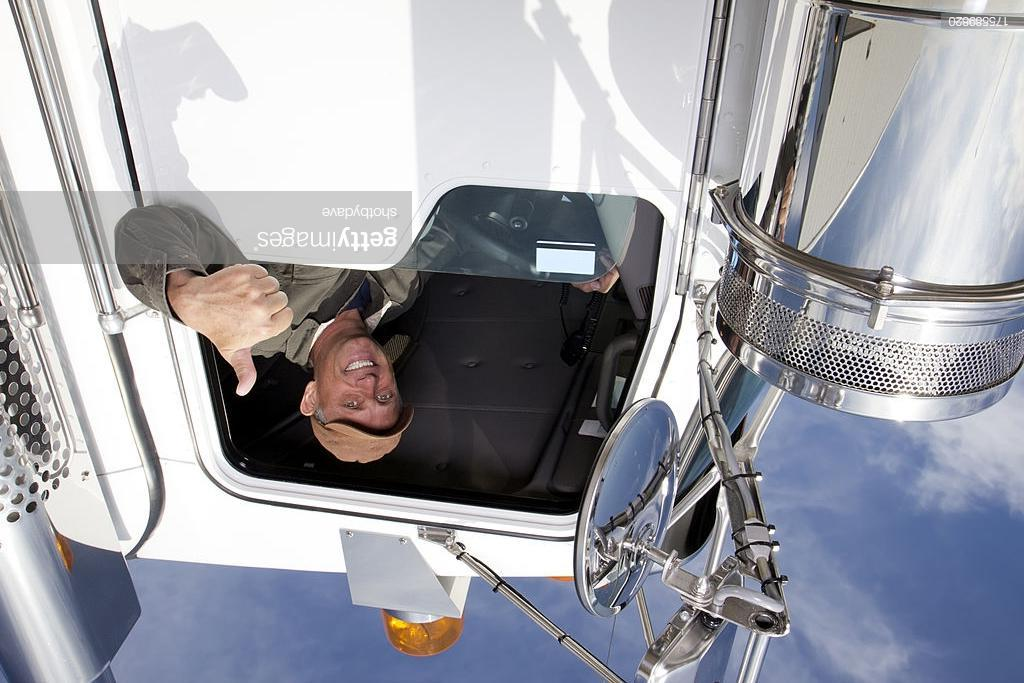thumbsdown: (225, 262, 294, 397)
